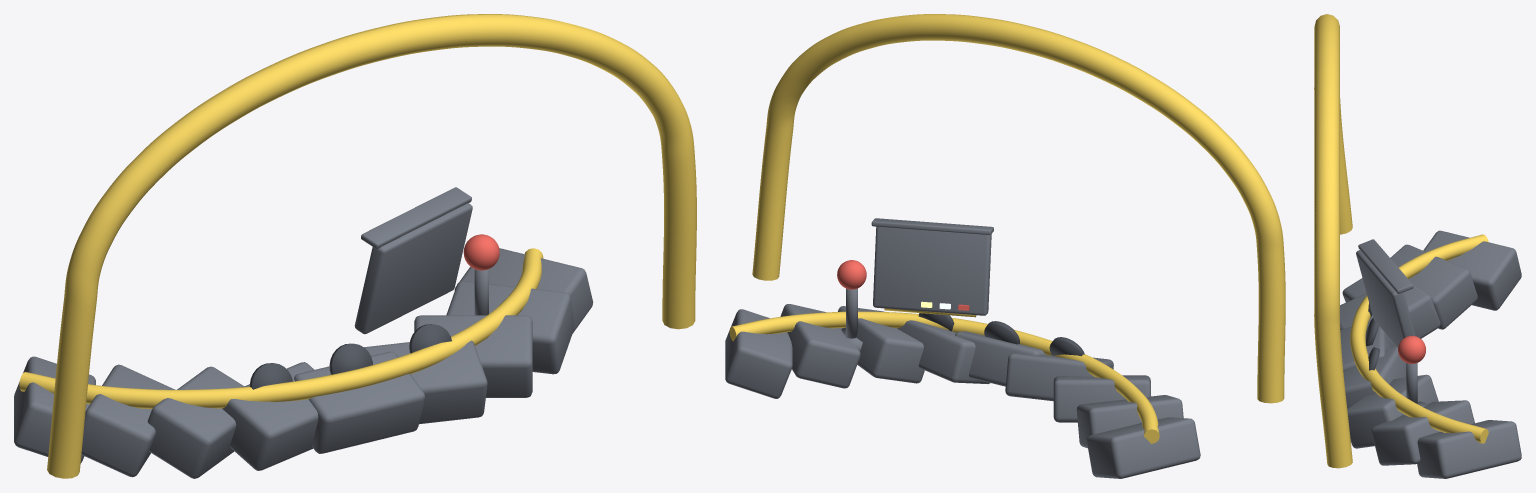
The model's file is Cabina.fbx.
3 views of the same model, side by side, from view 1: azimuth 30°, elevation 25°; view 2: azimuth 150°, elevation 25°; view 3: azimuth 270°, elevation 25° (orthographic). The views are drawn at different scales.
Visible parts, largest first — view 1: Cabina, PanelMapa, Palanca; view 2: Cabina, PanelMapa, Palanca; view 3: Cabina, PanelMapa, Palanca.
Boxes of the visible parts, box(x1,y1,x2,y2) form: Cabina: box(14, 14, 696, 478); PanelMapa: box(354, 187, 472, 334); Palanca: box(463, 234, 499, 315); Cabina: box(725, 14, 1285, 478); PanelMapa: box(871, 218, 993, 317); Palanca: box(837, 260, 866, 338); Cabina: box(1314, 14, 1521, 478); PanelMapa: box(1356, 239, 1415, 347); Palanca: box(1398, 335, 1425, 403).
Size of the model in its own units: 2.26 by 1.42 by 0.8079.
